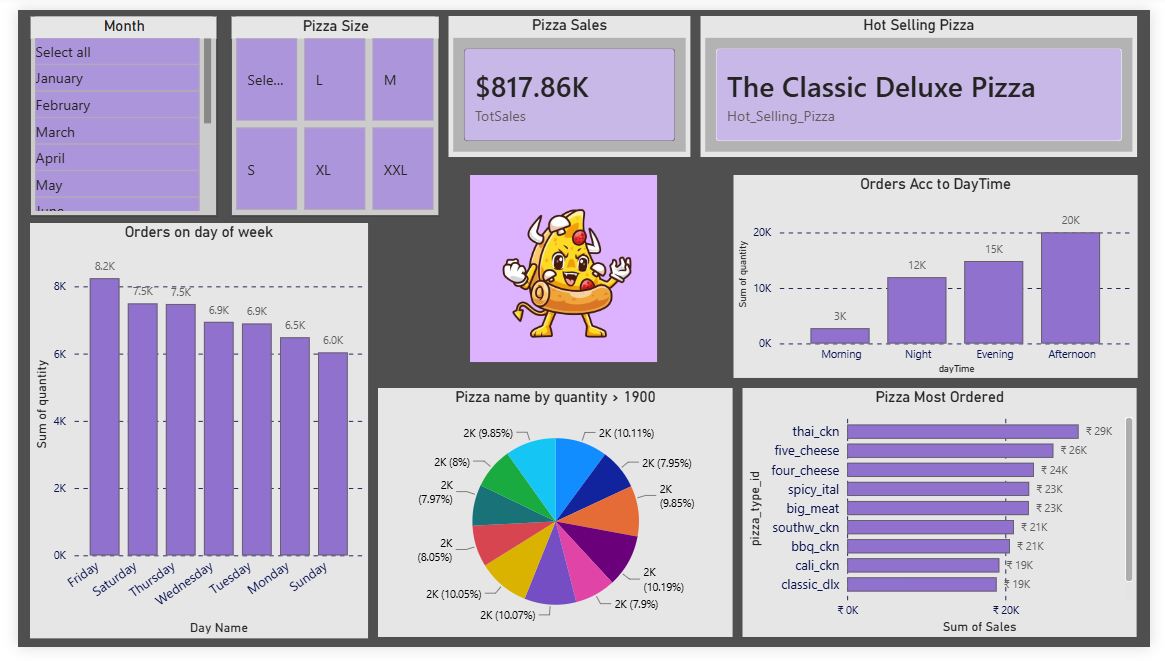

The page's visual inventory and layout, read from the dashboard file:
{"tool":"powerbi","page":{"name":"Page 1","canvas":[1280,720],"ordinal":0},"visuals":[{"type":"cardVisual","title":"Pizza Sales","fields":{"Data":["orderDetails.TotSales"]},"box":[486.7,6.4,273.6,159.1],"z":0},{"type":"columnChart","title":"Orders on day of week","fields":{"Category":["order_time.Day Name"],"Y":["Sum(orderDetails.quantity)"]},"box":[14.3,240.2,381.7,469.2],"z":1000},{"type":"barChart","title":"Pizza Most Ordered ","fields":{"Y":["Sum(orderDetails.Sales)"],"Category":["pizzaDetails.pizza_type_id"]},"box":[819.2,427.9,445.4,281.5],"z":2000},{"type":"pieChart","title":"Pizza name by quantity > 1900","fields":{"Series":["pizzaDetails.name"],"Y":["Sum(orderDetails.quantity)"]},"box":[407.2,427.9,400.8,281.5],"z":3000},{"type":"cardVisual","title":"Hot Selling Pizza","fields":{"Data":["orderDetails.Hot_Selling_Pizza"]},"box":[771.4,6.4,493.1,159.1],"z":4000},{"type":"listSlicer","fields":{"Values":["order_time.Month"]},"box":[14.3,6.4,211.6,225.9],"z":5000},{"type":"columnChart","title":"Orders Acc to DayTime","fields":{"Category":["order_time.dayTime"],"Y":["Sum(orderDetails.quantity)"]},"box":[808,186.1,456.5,229],"z":6000},{"type":"image","box":[507.4,186.1,219.5,211.6],"z":7000},{"type":"advancedSlicerVisual","title":"Pizza Size","fields":{"Values":["orderDetails.size"]},"box":[240.2,6.4,235.4,225.9],"z":8000}]}

Visuals, with their boxes in screenshot pixels (x1, y1, x2, y2), scaled from the page's 1280x720 canvas onto the 1165x661 screenshot:
"Pizza Sales" cardVisual: BBox(443, 6, 692, 152)
"Orders on day of week" columnChart: BBox(13, 221, 360, 651)
"Pizza Most Ordered " barChart: BBox(746, 393, 1151, 651)
"Pizza name by quantity > 1900" pieChart: BBox(371, 393, 735, 651)
"Hot Selling Pizza" cardVisual: BBox(702, 6, 1151, 152)
listSlicer - order_time.Month: BBox(13, 6, 206, 213)
"Orders Acc to DayTime" columnChart: BBox(735, 171, 1151, 381)
image: BBox(462, 171, 662, 365)
"Pizza Size" advancedSlicerVisual: BBox(219, 6, 433, 213)
